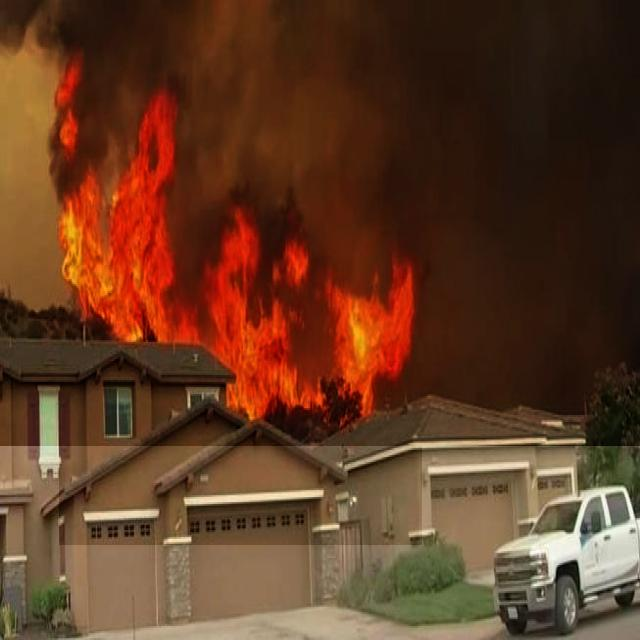Fire: (59, 64, 422, 545)
Smoke: (0, 0, 640, 446)
